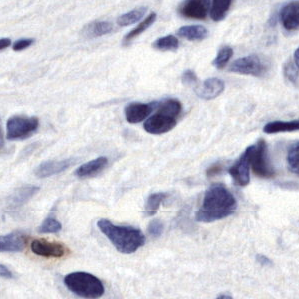Lymphocyte: (28, 235, 66, 259)
